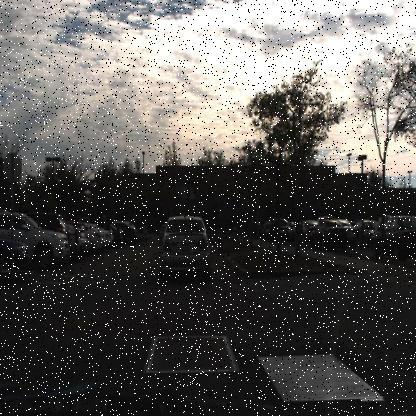car: (158, 208, 212, 291), (25, 216, 71, 274), (369, 212, 415, 263), (0, 226, 35, 280), (311, 217, 348, 253), (268, 218, 294, 244), (71, 218, 87, 258), (294, 219, 315, 245), (87, 220, 103, 254), (38, 212, 66, 230), (122, 219, 140, 247), (355, 218, 375, 236), (110, 221, 122, 249), (156, 219, 168, 246), (104, 225, 113, 250), (104, 226, 113, 249)
